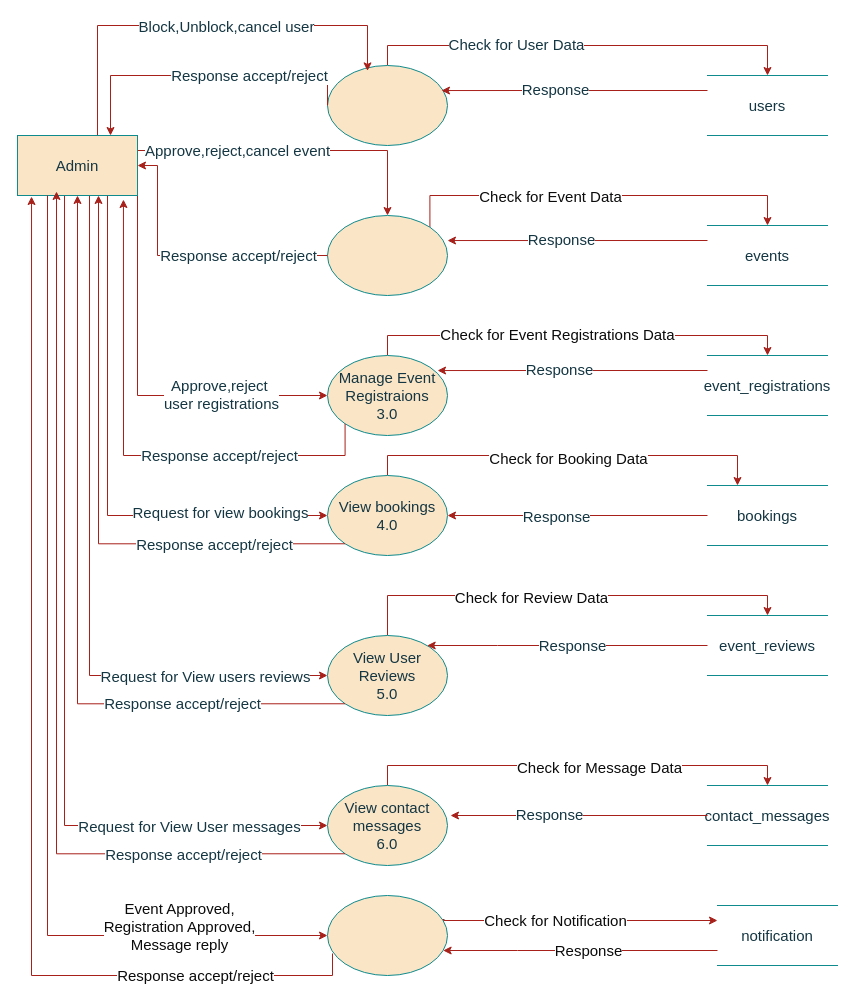
Some shapes in this 855 by 1001 pixel diagram are drawn without their labels. Each missing label, with the box of its shape:
Manage Events 2.0: (326, 214, 448, 296)
Manage Users 1.0: (326, 64, 448, 146)
Send Notification 7.0: (326, 894, 448, 976)
